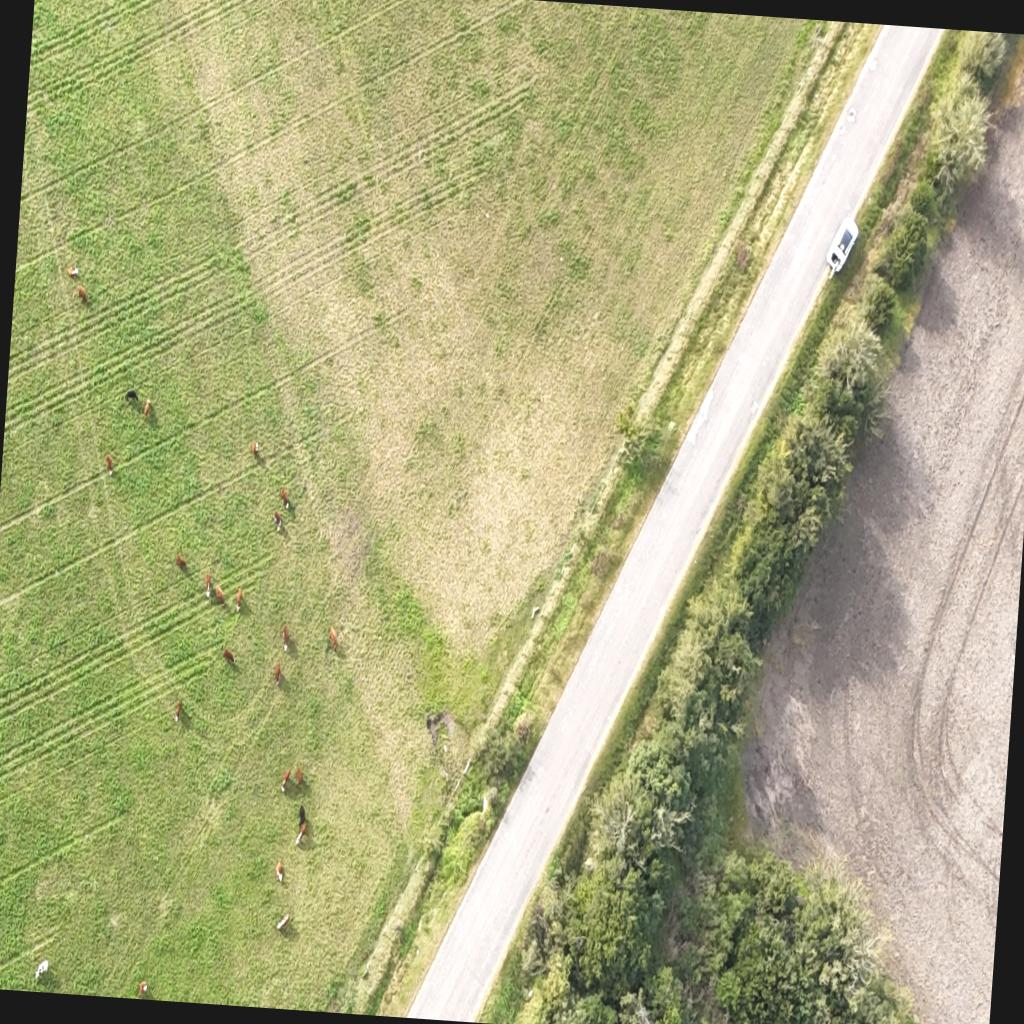cow: (204, 574, 218, 602), (34, 960, 49, 984), (281, 769, 293, 797), (328, 628, 340, 654), (278, 910, 292, 932), (292, 826, 307, 846), (124, 385, 138, 406), (296, 804, 306, 831), (222, 648, 236, 666), (272, 512, 283, 534), (274, 662, 284, 686), (276, 859, 286, 883), (281, 625, 290, 651), (175, 698, 185, 721), (214, 585, 226, 604), (105, 454, 115, 476), (76, 286, 88, 304), (138, 978, 150, 996), (252, 439, 262, 459), (294, 766, 303, 787), (67, 267, 80, 281), (176, 552, 186, 570), (234, 588, 242, 608), (144, 398, 152, 418), (280, 488, 288, 504)
